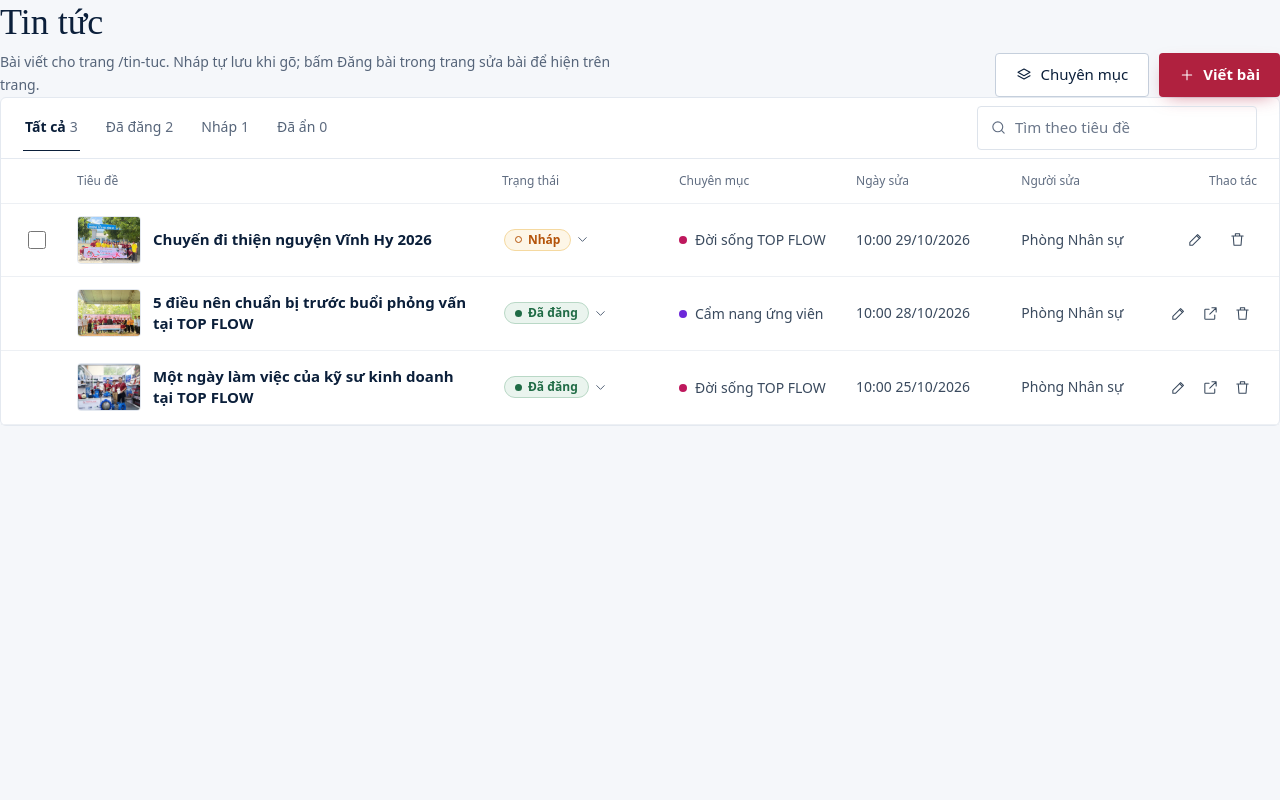
Test: HR news list › should not offer to delete a category that still has posts, and say why
Click the button "Chuyên mục". click: {"x": 1072, "y": 74}
box: x1=996 y1=52 x2=1149 y2=96
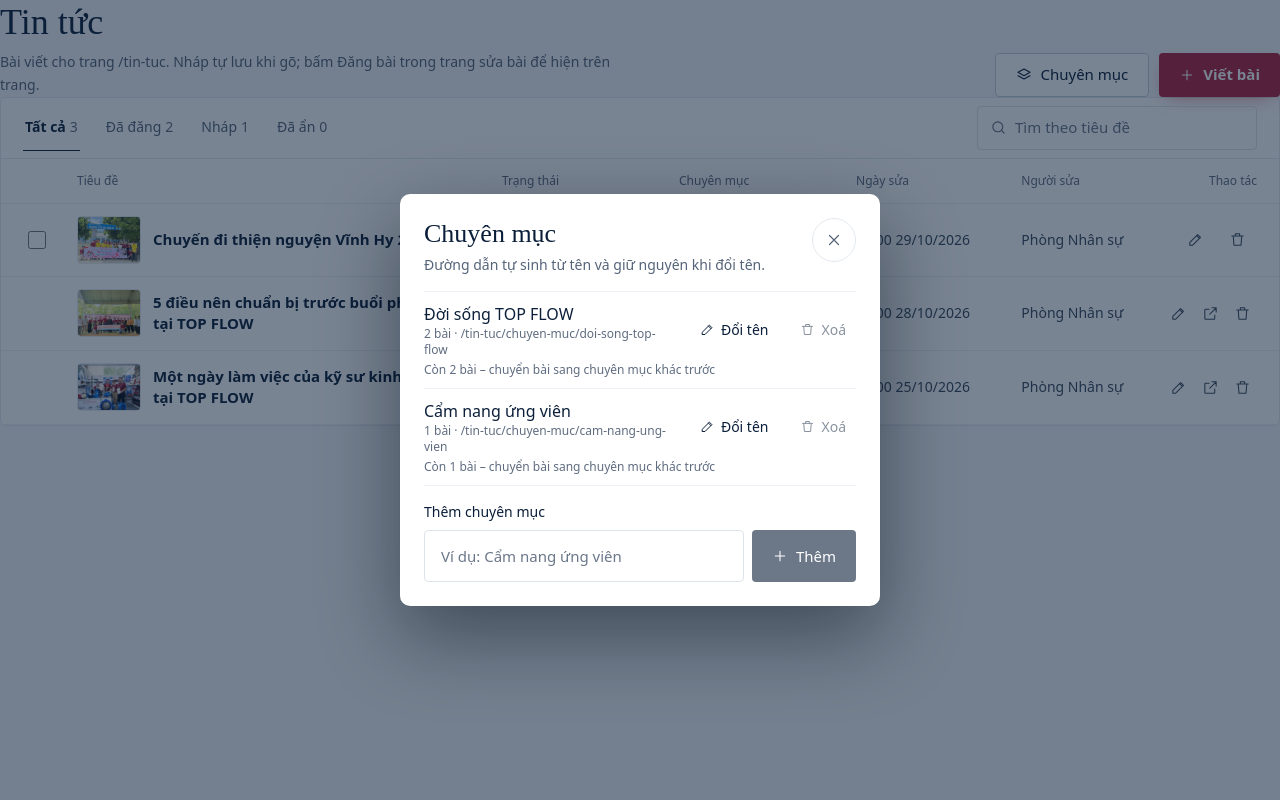
Expected: the button "Xoá" in the row of "doi-song-top-flow" is disabled, x1=790 y1=310 x2=856 y2=350
Expected: the text "Còn 2 bài – chuyển bài sang chuyên mục khác trước" is shown, x1=424 y1=361 x2=715 y2=378
